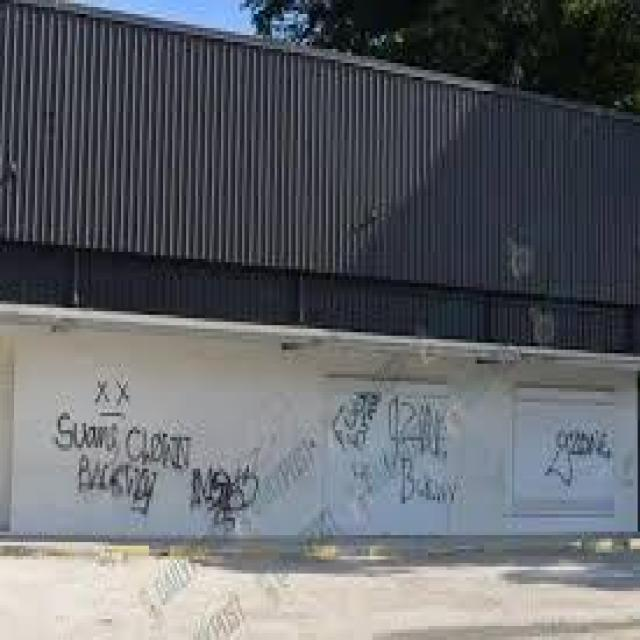nonspitting: (51, 378, 191, 520), (330, 388, 460, 504), (191, 458, 259, 529), (547, 427, 613, 485)
